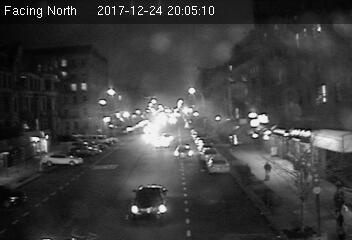car: (127, 184, 172, 222), (206, 156, 229, 173), (173, 143, 195, 160), (152, 135, 170, 148)
pedestrian: (261, 159, 274, 184)
